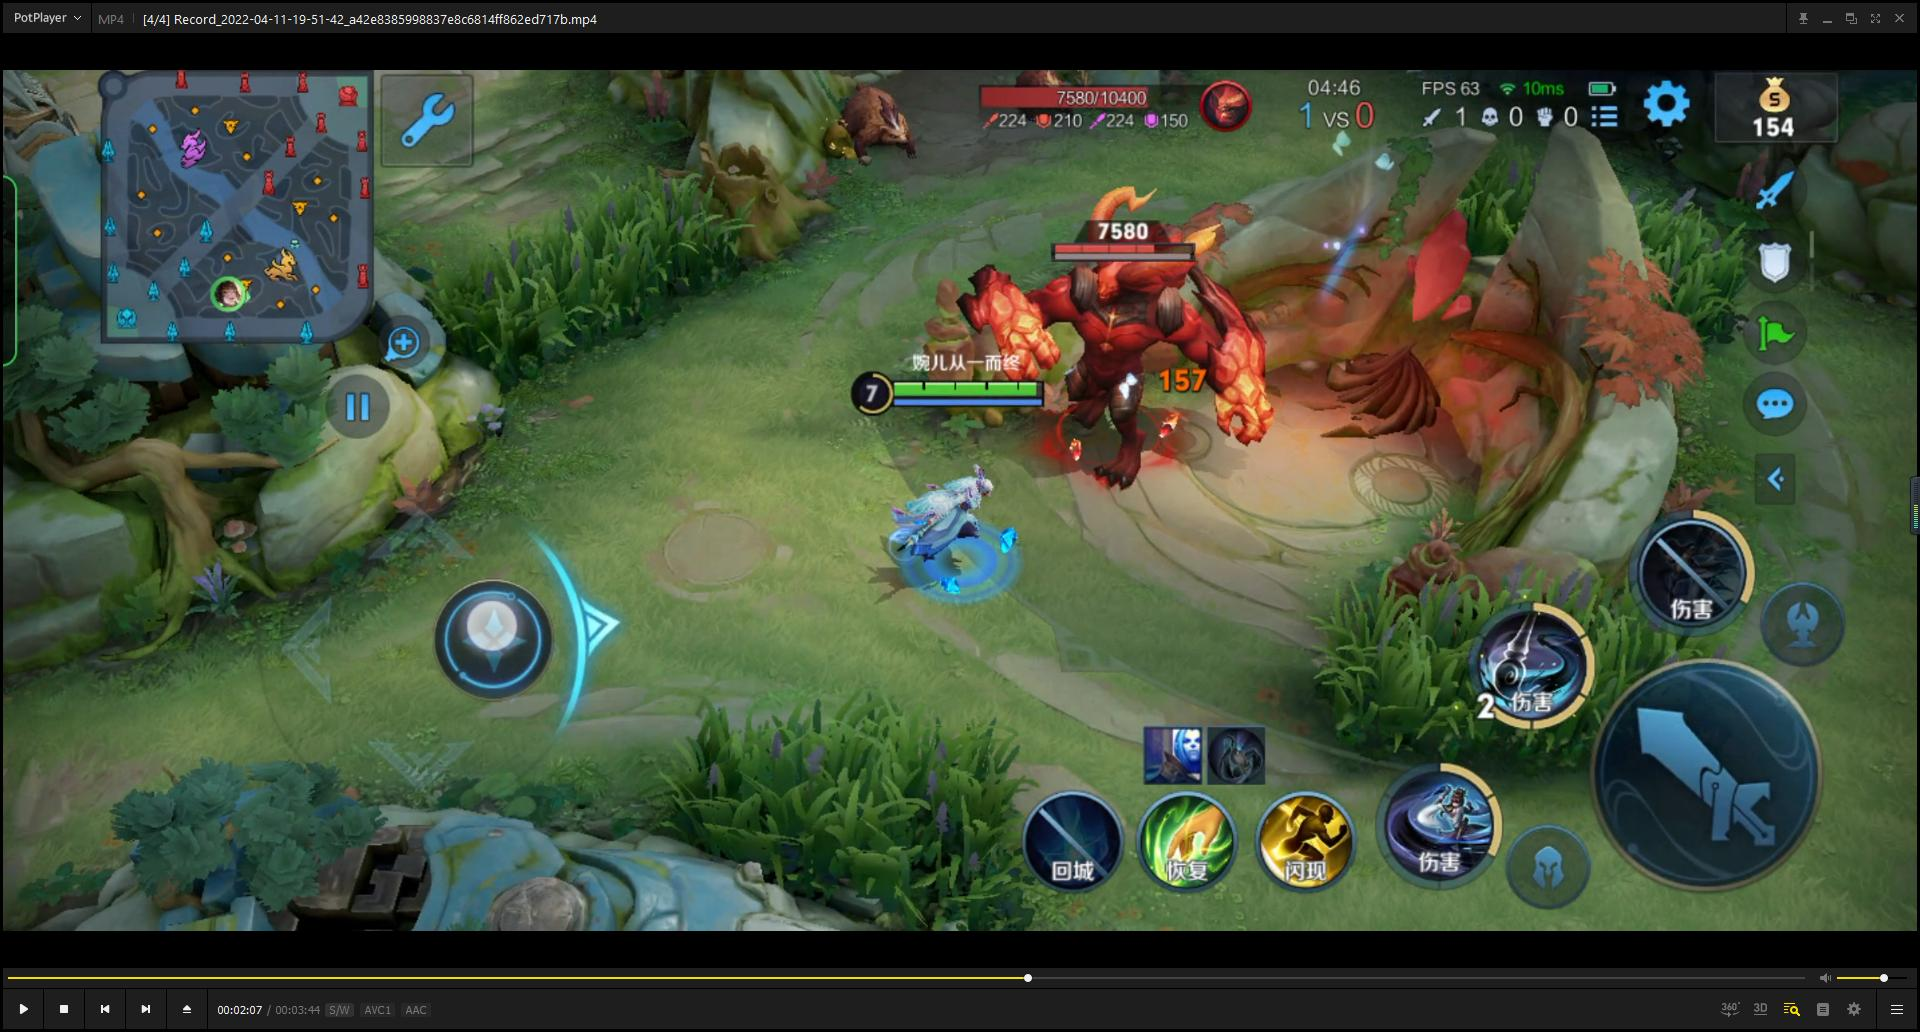Buff: (931, 173, 1290, 520)
Hero: (865, 463, 1038, 625)
Pig: (809, 83, 920, 166)
